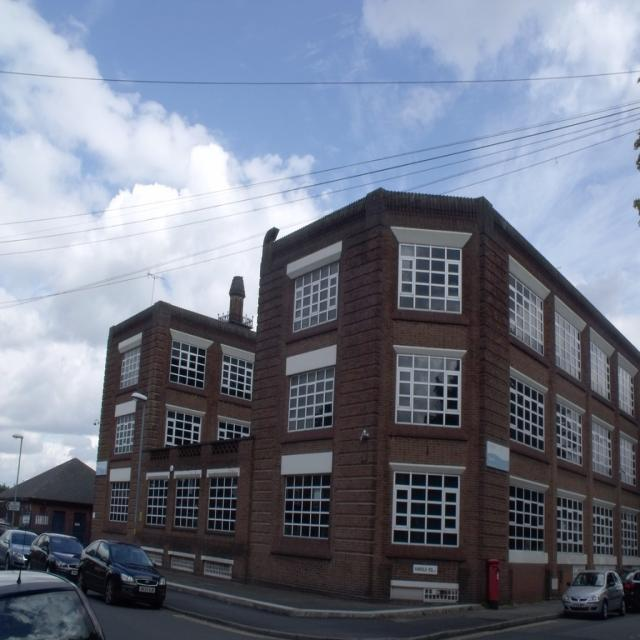car: (564, 565, 626, 619)
